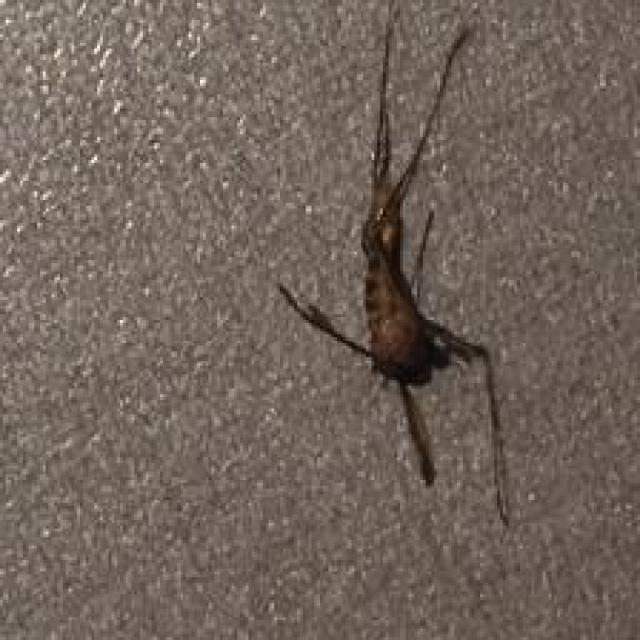Culex: (277, 2, 514, 527)
